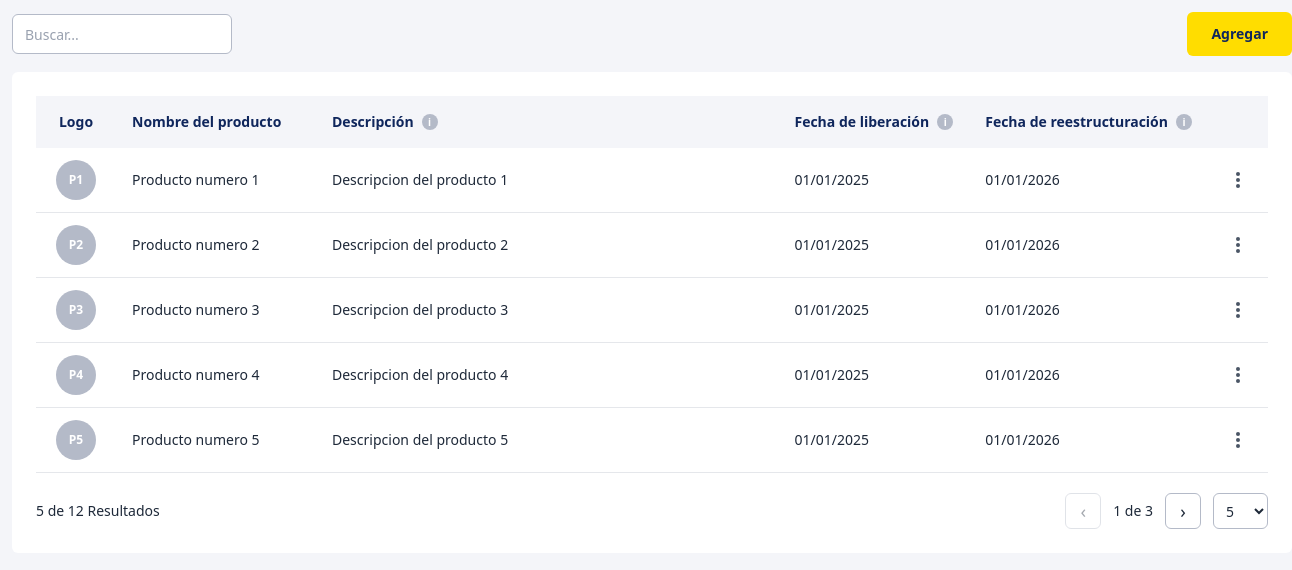
ProductsComponent › cantidad de registros y paginacion › deberia pasar a la siguiente pagina y volver a la anterior
The width and height of the screenshot is (1292, 570).
What coordinates should you click on to do the following:
click the button named "Página siguiente"
I would click on:
 (1183, 511)
Its box is [1165,493,1201,529].
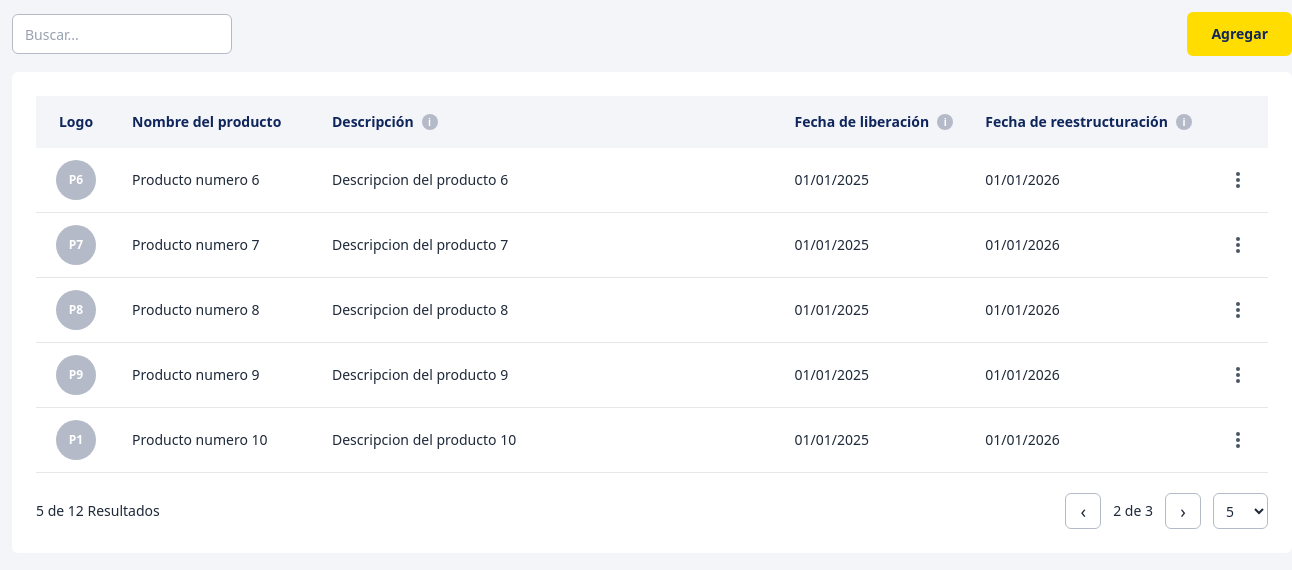
Now the row that starts with "Producto numero 6" is shown, box [132,170,260,189]
What coordinates should you click on to do the following:
click the button named "Página siguiente"
I would click on:
 (1183, 511)
Its box is [1165,493,1201,529].
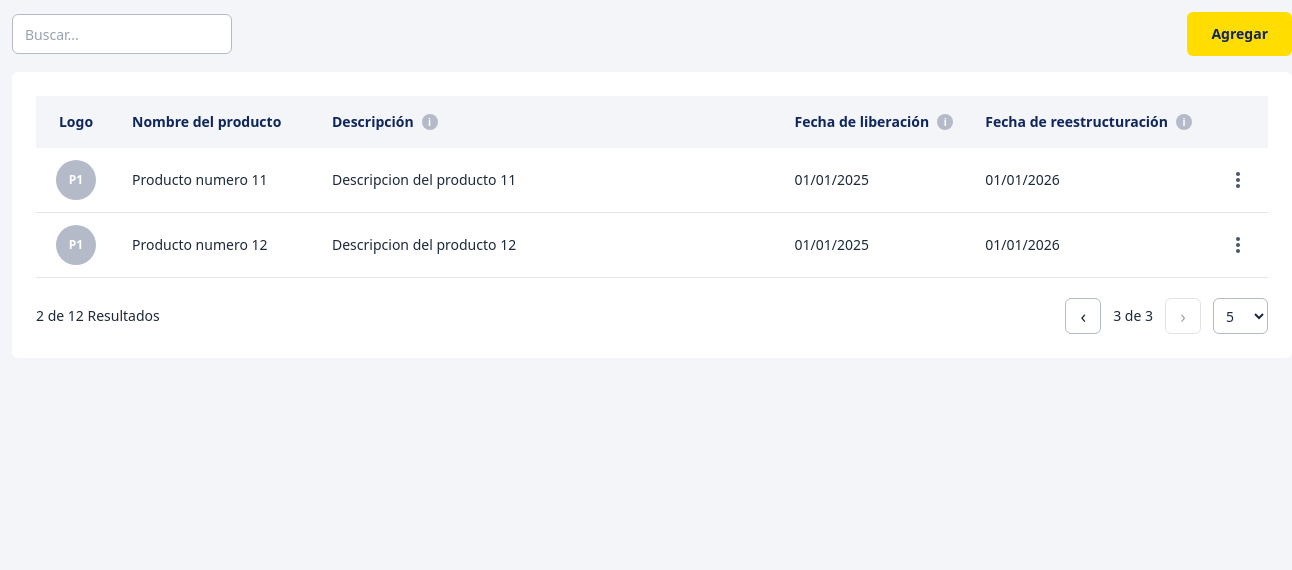
Now the text with class "font-medium" reads "2 de 12 Resultados", box [36,306,160,325]
What coordinates should you click on to do the following:
click the button "‹"
I would click on:
 (1083, 316)
Its box is [1065,298,1101,334].
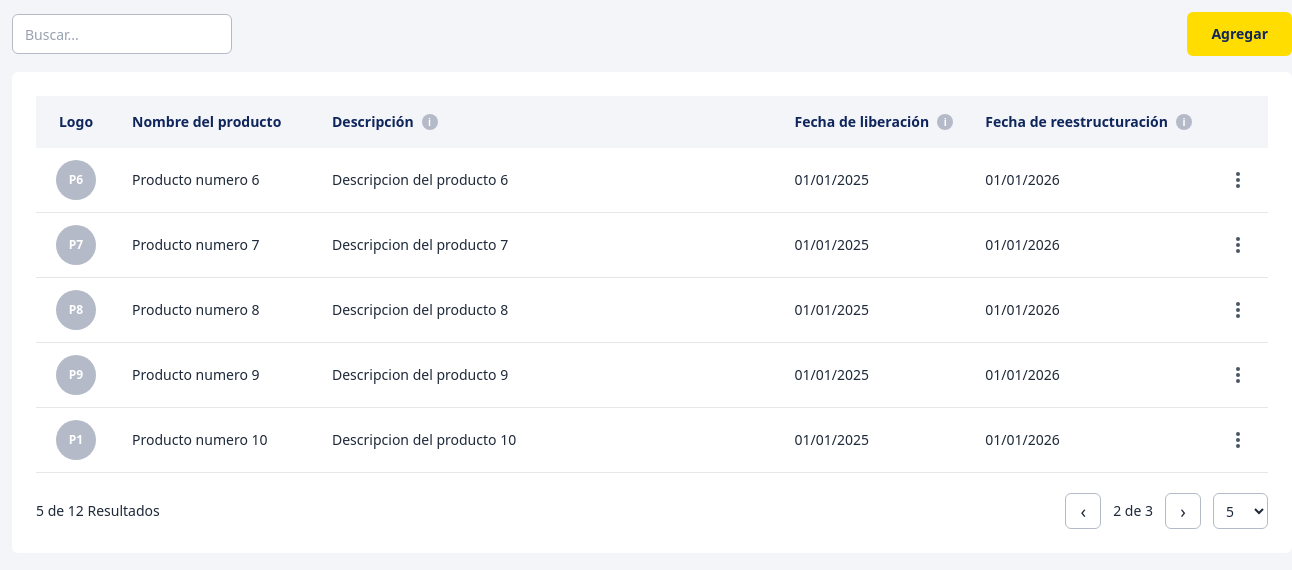
Now the row that starts with "Producto numero 6" is shown, box [132,170,260,189]
